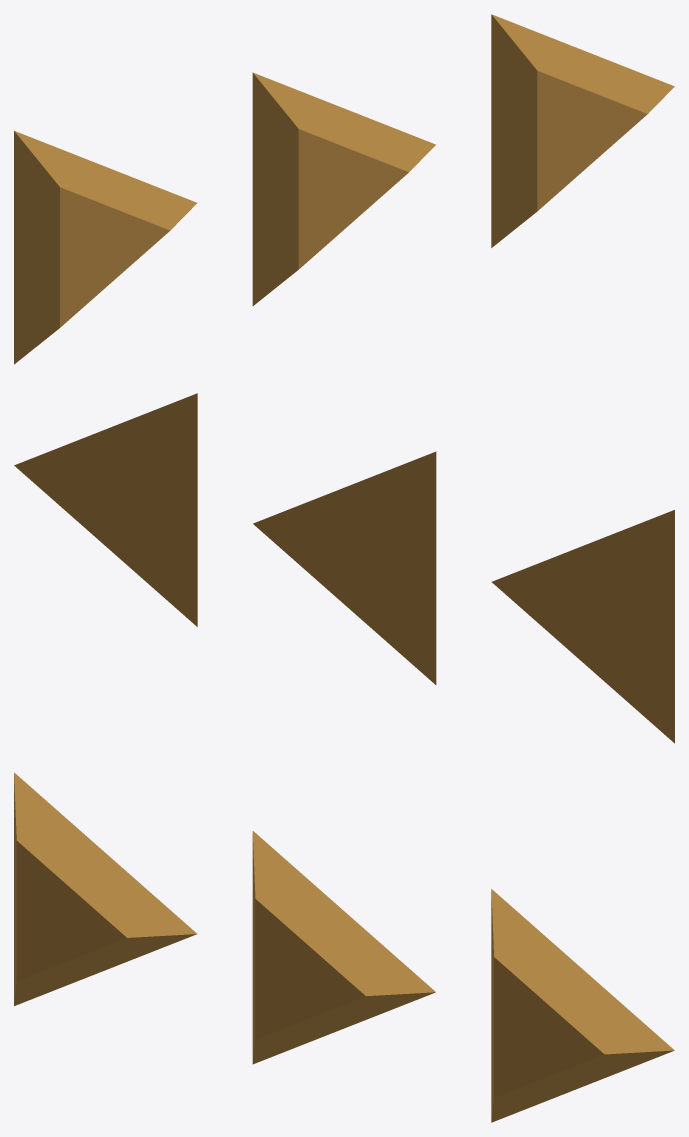
The model's file is details_triangles.glb.
The picture shows the model from 3 angles, top to bottom: view 1: azimuth 30°, elevation 25°; view 2: azimuth 150°, elevation 25°; view 3: azimuth 330°, elevation 25°; orthographic projection.
Parts seen in each view (by area): view 1: Details_Triangles; view 2: Details_Triangles; view 3: Details_Triangles.
Boxes of the visible parts, <box> form: Details_Triangles: <box>14,14,674,364</box>; Details_Triangles: <box>14,393,674,743</box>; Details_Triangles: <box>14,772,674,1122</box>.
Bounding box in the file's own units: 0.476 × 0.1611 × 0.0269.
